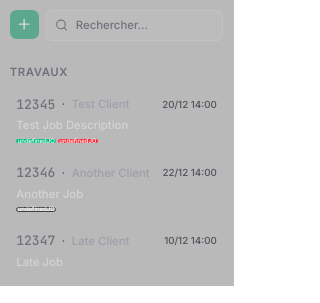
Test: JobsList › filters jobs by search query
This screenshot has width=320, height=303.
In the field with placeholder "Rechercher...": (134, 25) [46, 10, 223, 41], type "Another"
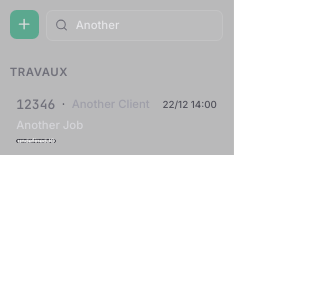
Expected: the text "12346" is shown, [16, 95, 55, 114]
Result: the button "12345" is gone
